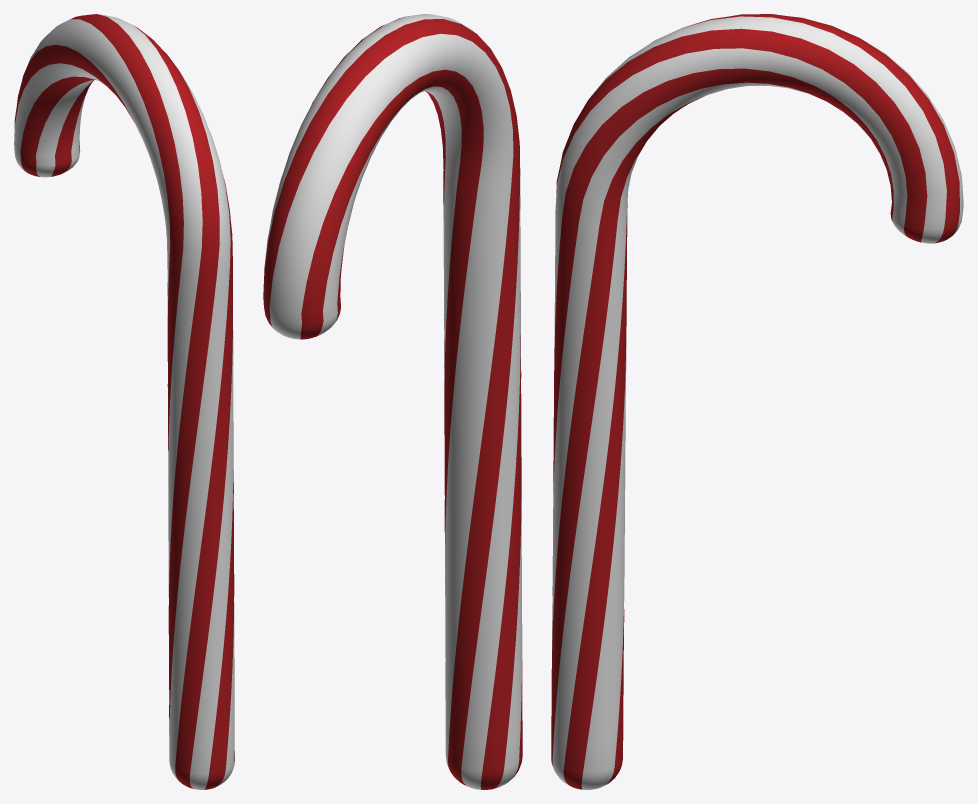
File: CandyCane.fbx
3 renders of one model, left to right at view 1: azimuth 30°, elevation 25°; view 2: azimuth 150°, elevation 25°; view 3: azimuth 270°, elevation 25°, orthographic. The views are drawn at different scales.
Visible parts, largest first — view 1: Sphere; view 2: Sphere; view 3: Sphere.
Boxes of the visible parts, x1,y1,x2,y2 form: Sphere: (14, 14, 234, 789); Sphere: (263, 14, 522, 789); Sphere: (551, 14, 963, 789).
Bounding box in the file's own units: 264 × 3113 × 1514.
